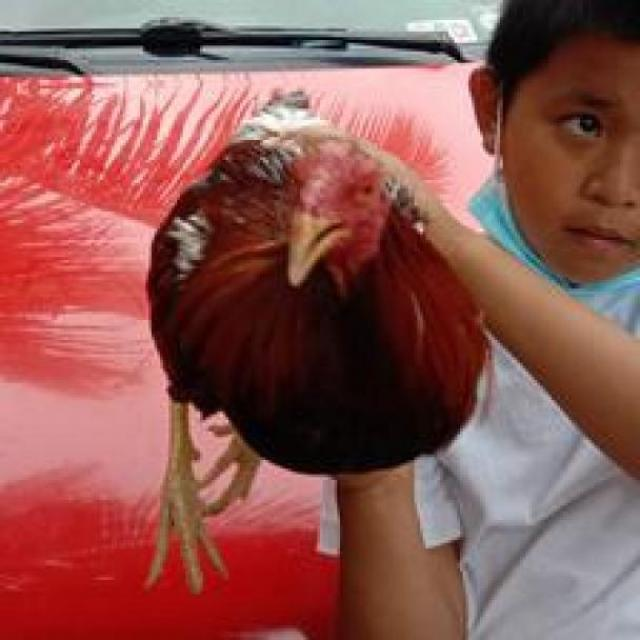Chicken: (162, 70, 498, 579)
